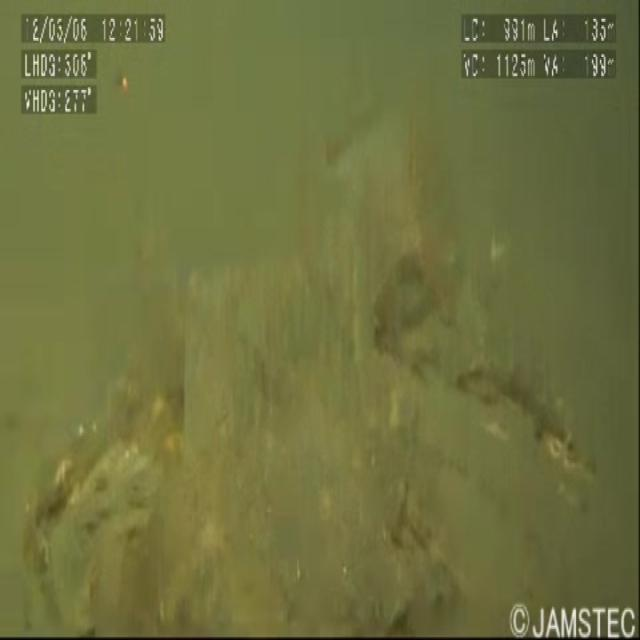Natual-Debris: (50, 390, 196, 520), (534, 388, 606, 495)
Rope: (25, 98, 623, 629)
